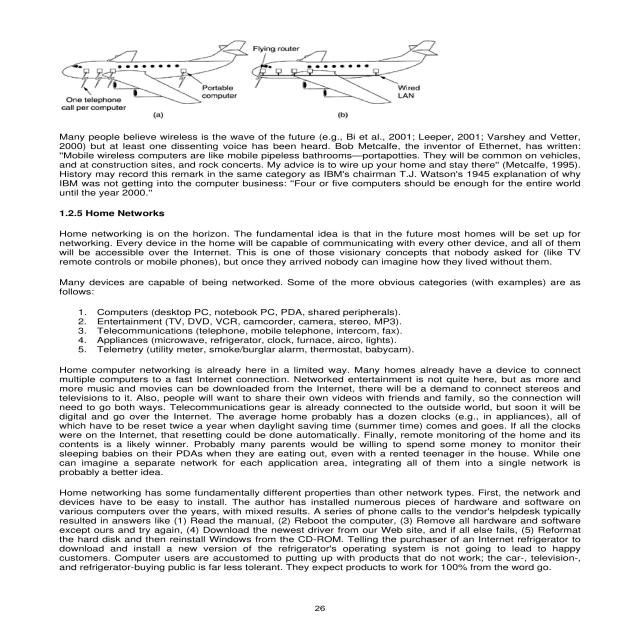diagram: (59, 31, 489, 123)
